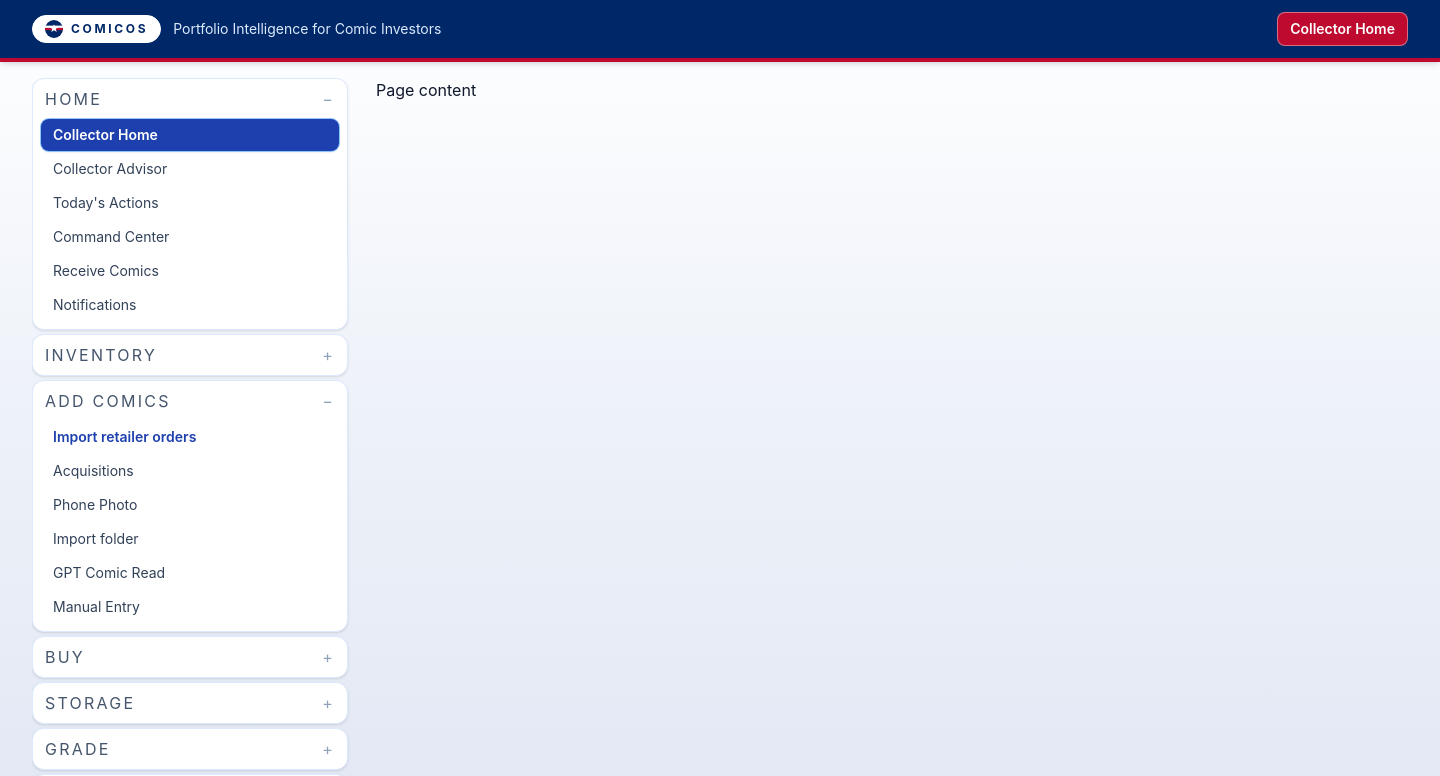
Scenario: AppShell navigation › does not show phase pages removed from the sidebar
The width and height of the screenshot is (1440, 776).
Click the button "Grade +" at (78, 749), box [33,729,347,769]
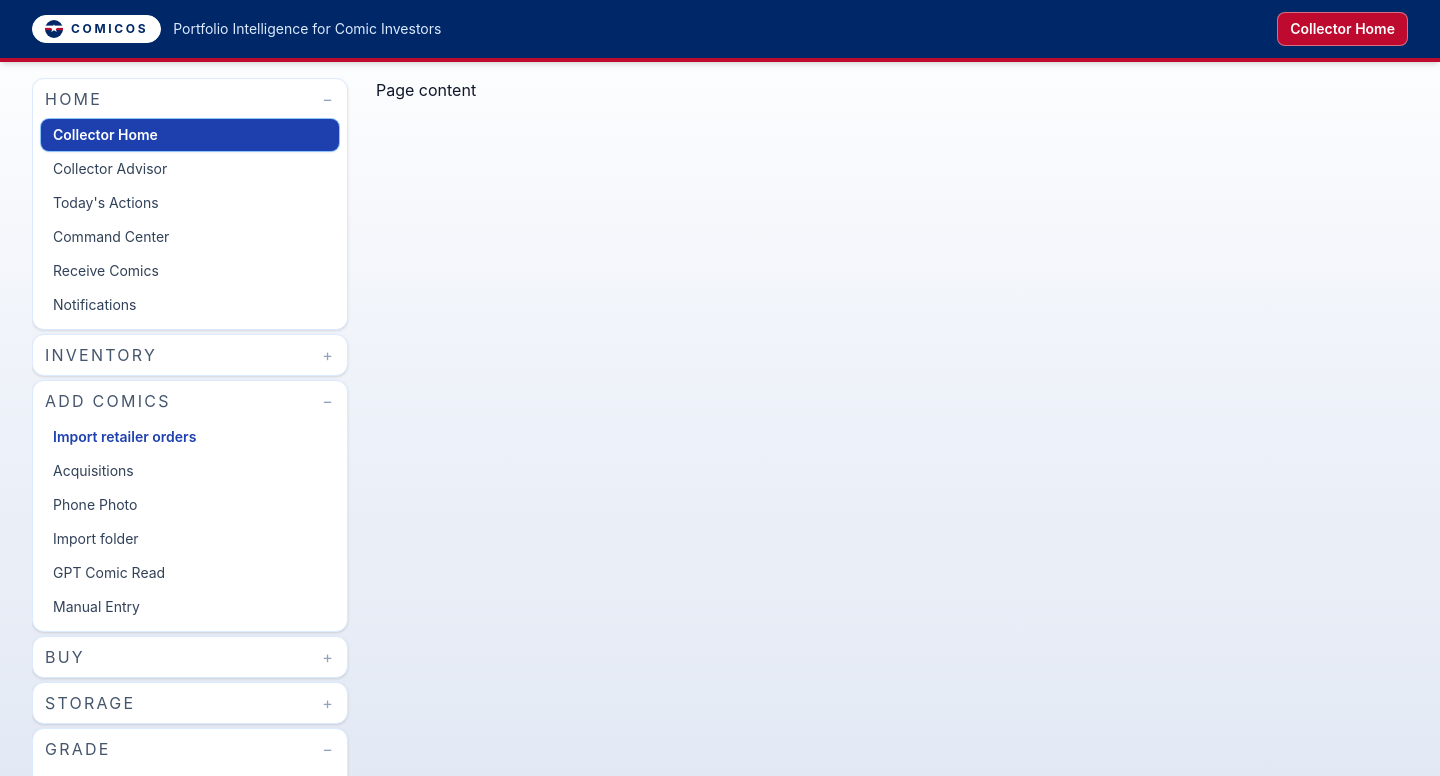
Click the button "Storage +" at (90, 703), box [33,683,347,723]
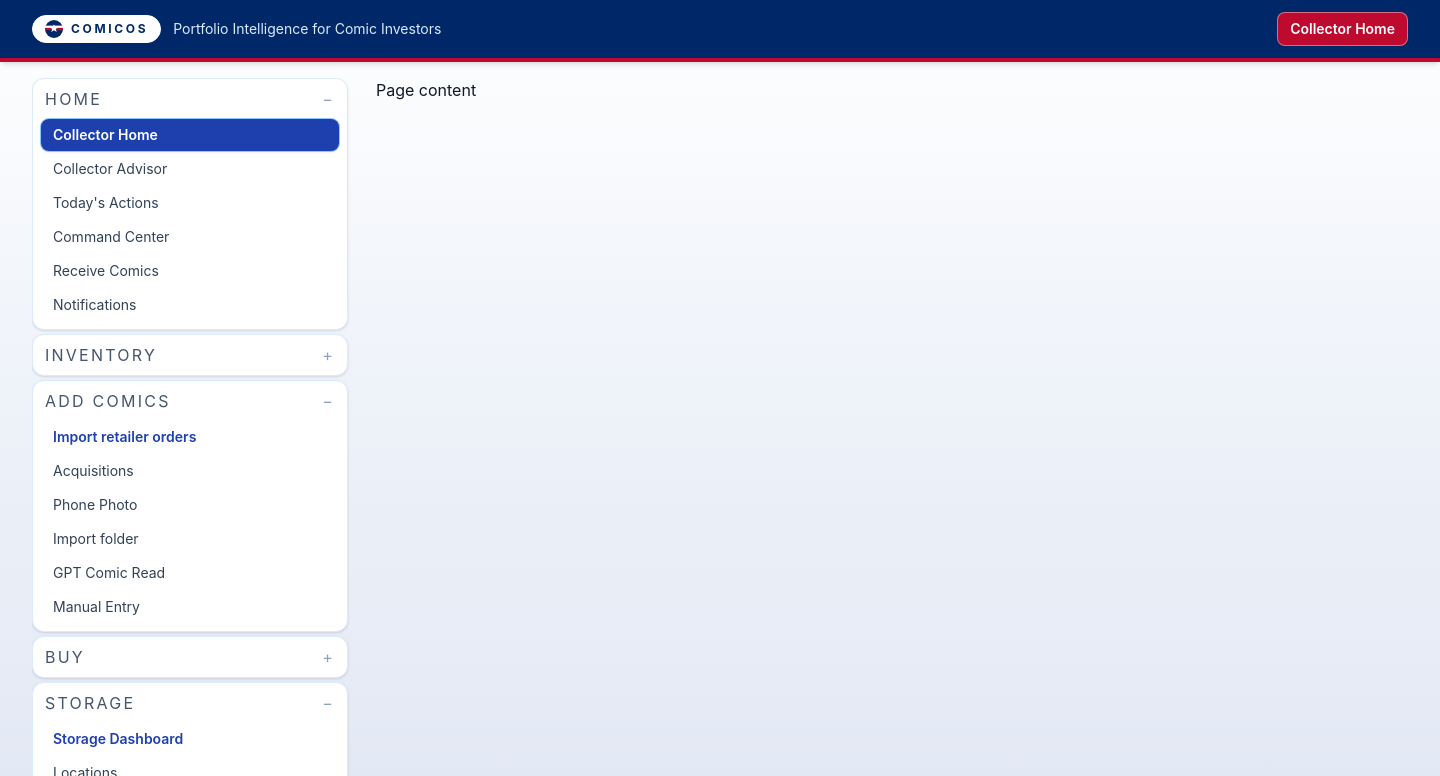
Click the button "Buy +" at (65, 657), box [33,637,347,677]
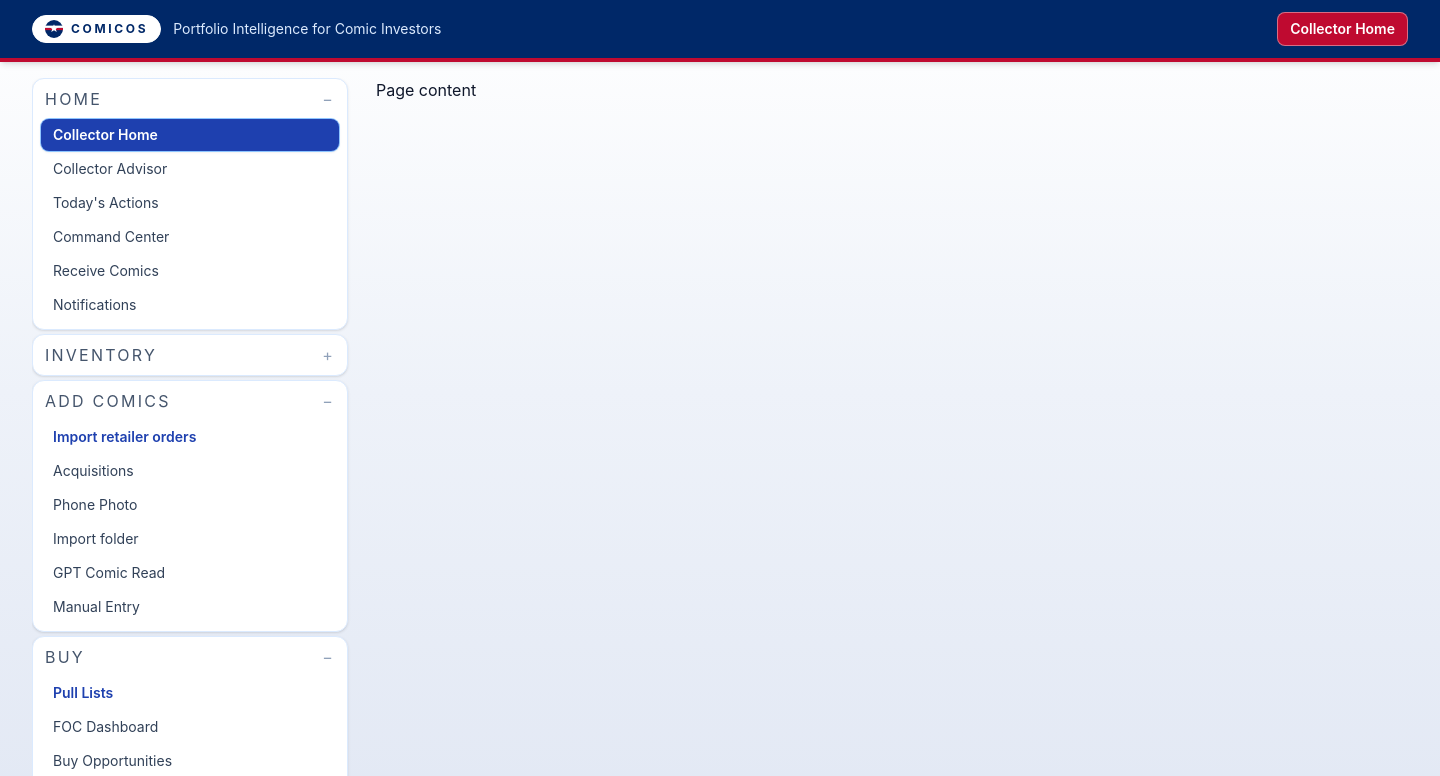
Click the button "Inventory +" at (101, 355), box [33,335,347,375]
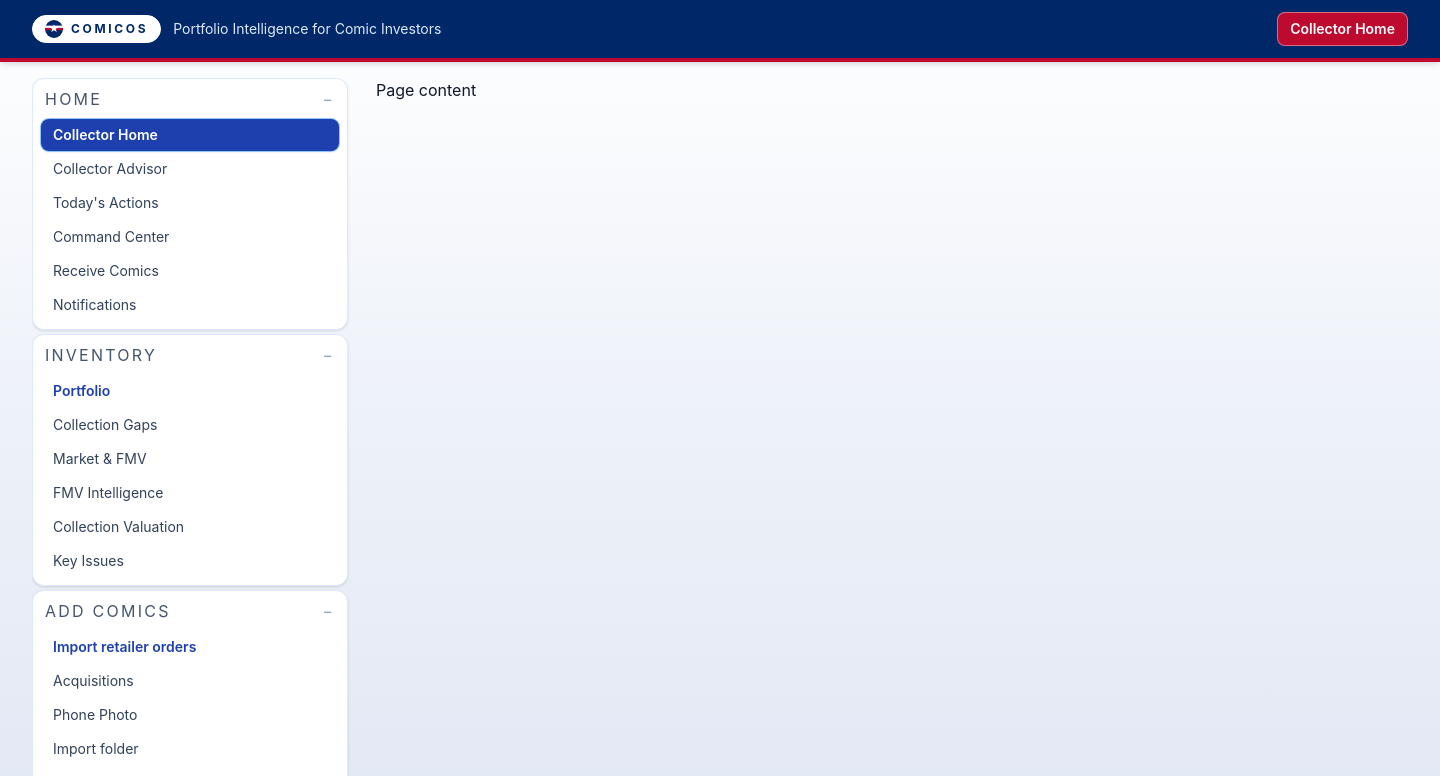
Now the link "Opportunities" is gone
